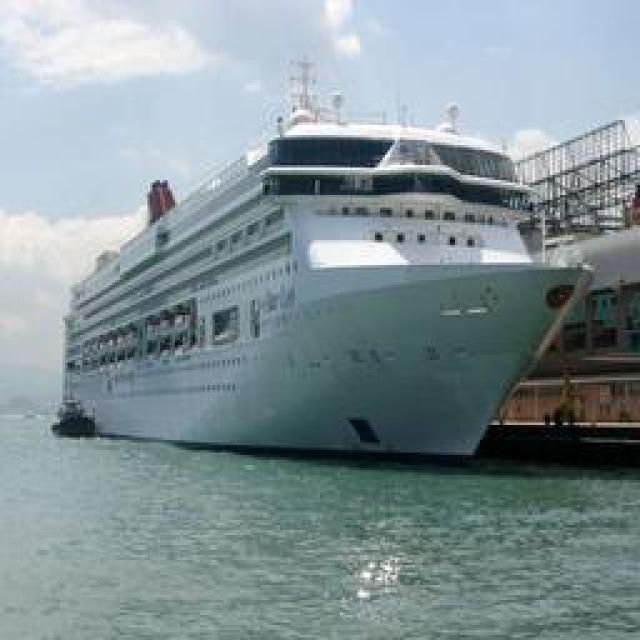Ship: (60, 94, 595, 459)
